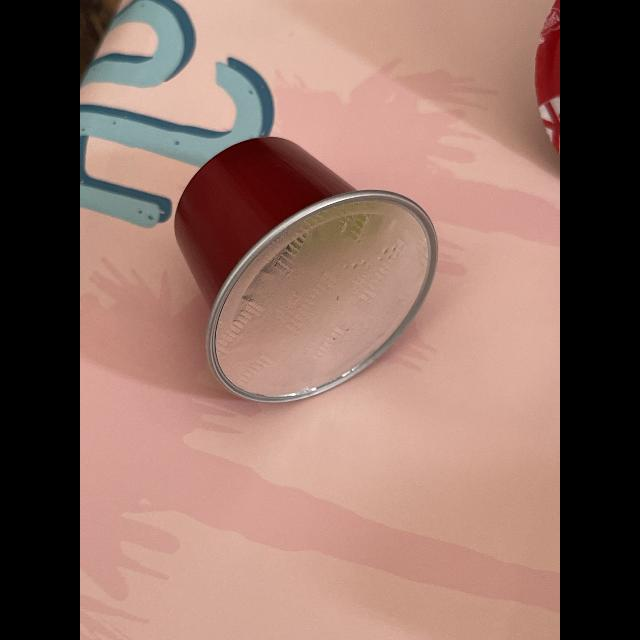intact_capsule: (163, 118, 451, 416)
